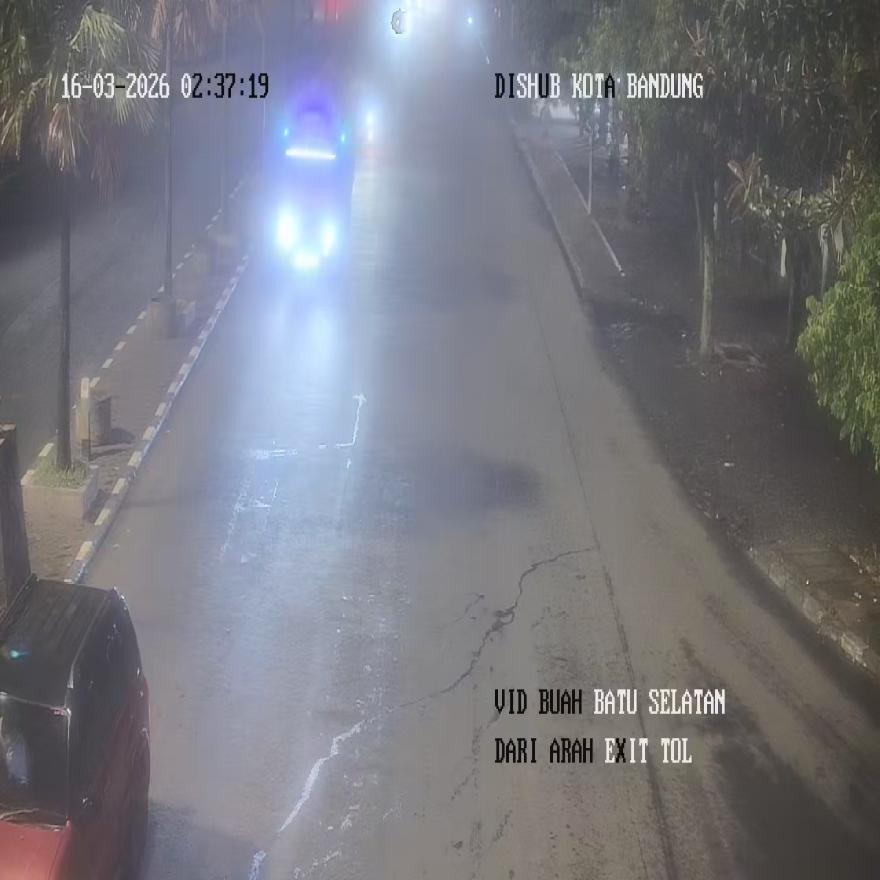Motor: (0, 578, 151, 879)
